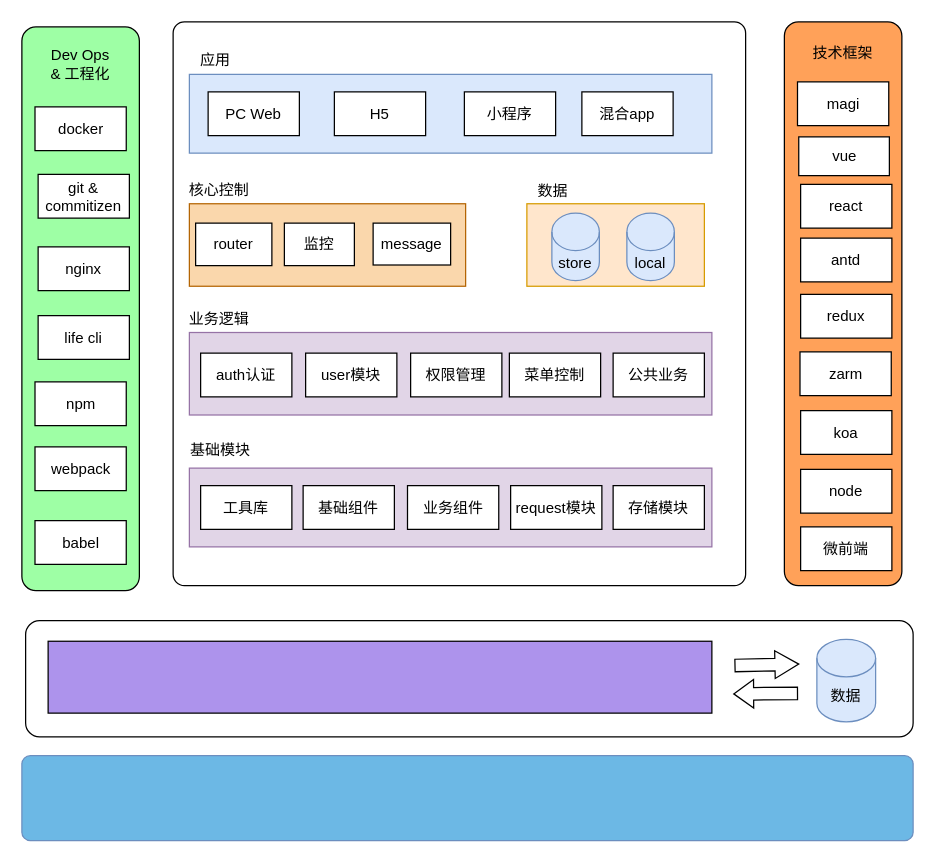
Image size: 935x863. Some labels were removed from this diagram. Here are the shapes that lost their labels. From the top down, the centre of each, then its label:
At point 379,676: "BFF 前端服务层".
At point 467,797: "后端服务".
